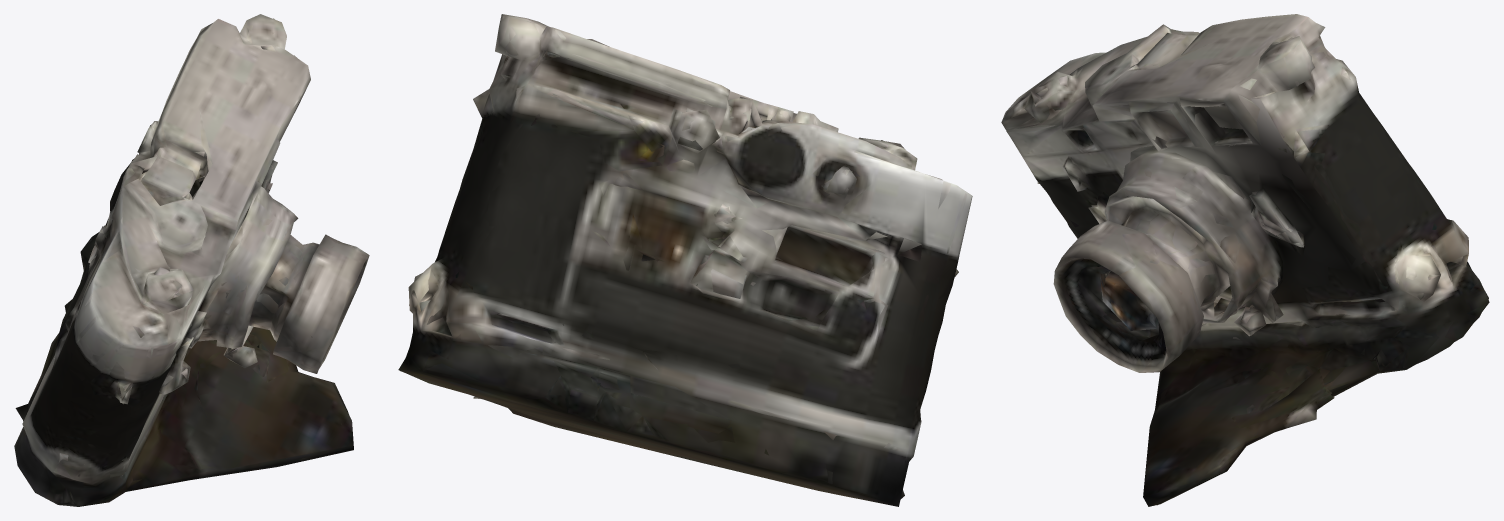
Rendered from leica.glb.
3 renders of one model, left to right at view 1: azimuth 30°, elevation 25°; view 2: azimuth 150°, elevation 25°; view 3: azimuth 270°, elevation 25°, orthographic. The views are drawn at different scales.
Parts seen in each view (by area): view 1: RETOPO; view 2: RETOPO; view 3: RETOPO.
Part boxes in pixels (box(x1,y1,x2,y2)): RETOPO: box(14, 14, 369, 506); RETOPO: box(398, 14, 972, 506); RETOPO: box(1001, 14, 1489, 506).
Size of the model in its own units: 0.7841 by 0.9329 by 0.9108.
1 material, 1 textured.
